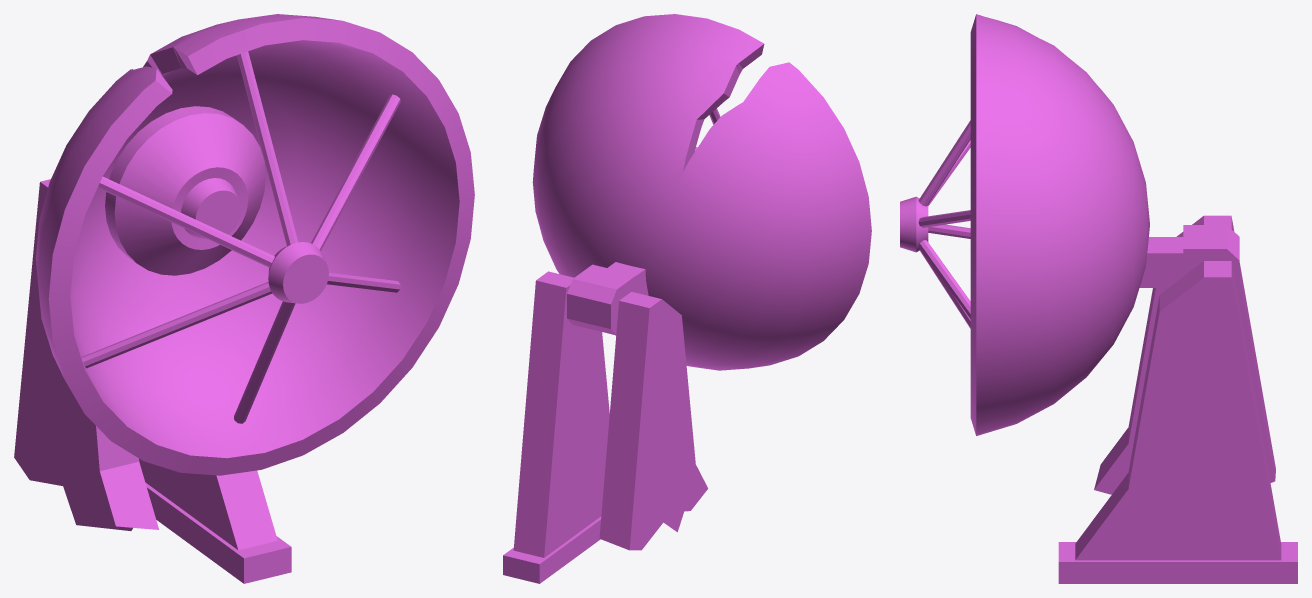
The model's file is Radar Dish.fbx.
3 renders of one model, left to right at view 1: azimuth 30°, elevation 25°; view 2: azimuth 150°, elevation 25°; view 3: azimuth 270°, elevation 25°, orthographic. The views are drawn at different scales.
Visible parts, largest first — view 1: Dish, Dish_Base; view 2: Dish, Dish_Base, Pivot; view 3: Dish, Dish_Base, Pivot.
Part boxes in pixels (x1,y1,x2,y2): Dish: [36, 14, 474, 475]; Dish_Base: [14, 179, 291, 583]; Dish: [532, 14, 871, 370]; Dish_Base: [503, 271, 707, 583]; Pivot: [567, 262, 648, 335]; Dish: [900, 14, 1149, 435]; Dish_Base: [1058, 215, 1297, 583]; Pivot: [1139, 225, 1239, 290].
Bounding box in the file's own units: 196 × 265 × 184.
